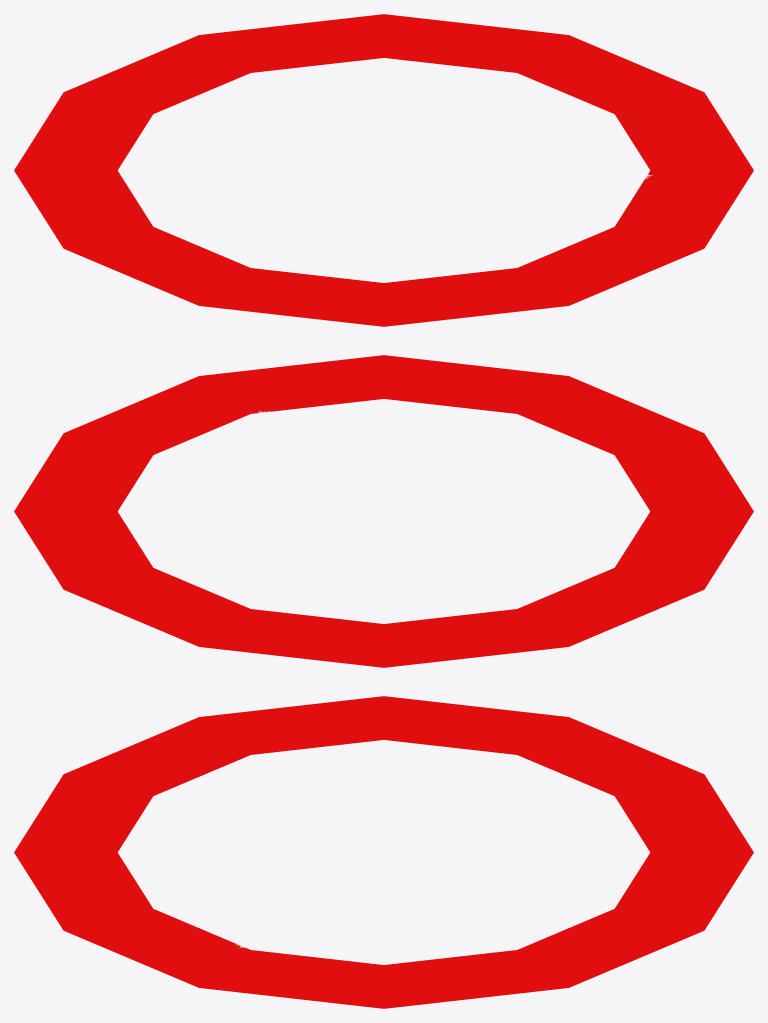
The model's file is CircularDisplay.FBX.
3 renders of one model, top to bottom at view 1: azimuth 30°, elevation 25°; view 2: azimuth 150°, elevation 25°; view 3: azimuth 270°, elevation 25°, orthographic.
Parts seen in each view (by area): view 1: Sphere001; view 2: Sphere001; view 3: Sphere001.
Part boxes in pixels (bbox=[...]): Sphere001: bbox=[14, 14, 753, 326]; Sphere001: bbox=[14, 355, 753, 667]; Sphere001: bbox=[14, 696, 753, 1008].
Size of the model in its own units: 200 by 7.63e-06 by 200.
Materials: 1 (1 with a texture image).
